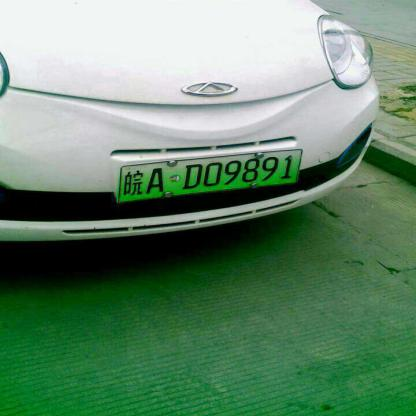lp: (118, 150, 301, 202)
